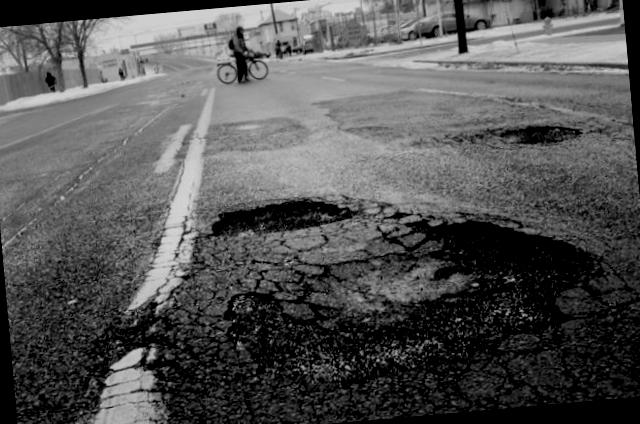Pothole: (198, 202, 611, 408), (193, 170, 352, 250), (490, 104, 592, 170)
